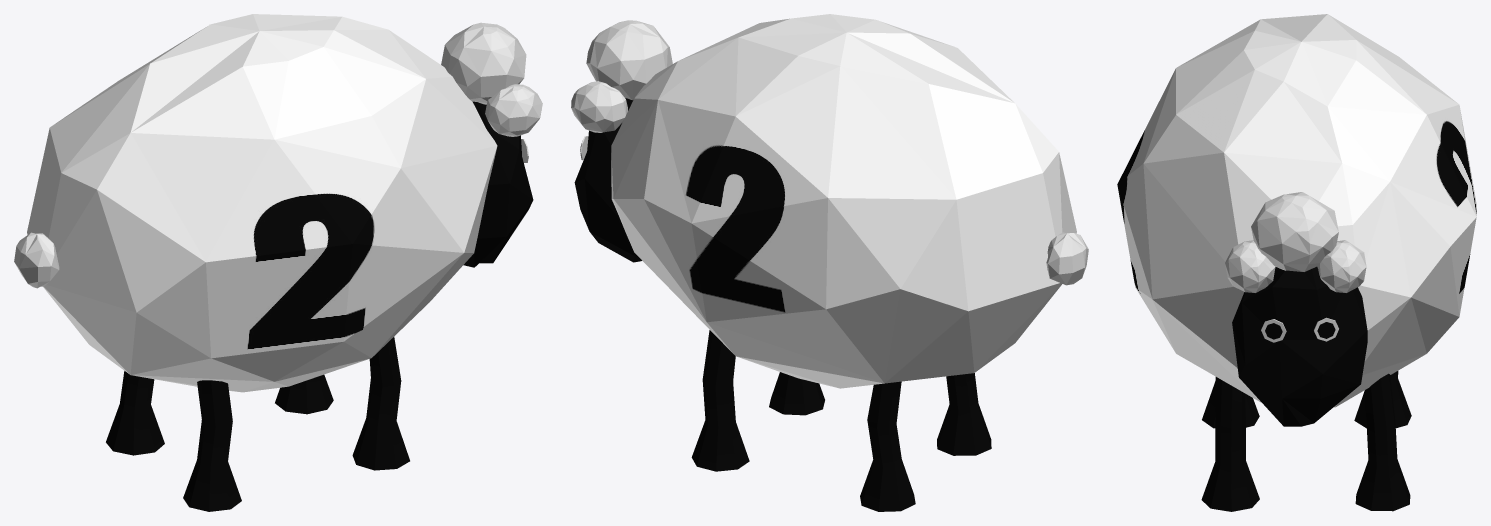
The model's file is sheep2.fbx.
The picture shows the model from 3 angles, left to right: view 1: azimuth 30°, elevation 25°; view 2: azimuth 150°, elevation 25°; view 3: azimuth 270°, elevation 25°; orthographic projection.
Visible parts, largest first — view 1: pSphere1, pSphere7, pSphere4, pCylinder1, pCylinder5, pCylinder7, pSphere8, pSphere3, pCylinder6; view 2: pSphere1, pCylinder6, pSphere7, pCylinder7, pSphere4, pCylinder1, pSphere9, pSphere3, pCylinder5; view 3: pSphere1, pSphere4, pSphere7, pCylinder5, pCylinder6, pSphere8, pSphere9, pCylinder7, pCylinder1.
Part boxes in pixels (<box>): pSphere1: <box>27,14,497,392</box>; pSphere7: <box>441,22,526,104</box>; pSphere4: <box>463,101,533,267</box>; pCylinder1: <box>183,380,241,511</box>; pCylinder5: <box>352,337,409,470</box>; pCylinder7: <box>106,371,164,455</box>; pSphere8: <box>485,84,542,136</box>; pSphere3: <box>14,232,59,288</box>; pCylinder6: <box>275,374,333,414</box>; pSphere1: <box>611,14,1076,388</box>; pCylinder6: <box>691,330,749,471</box>; pSphere7: <box>586,20,672,100</box>; pCylinder7: <box>860,381,915,511</box>; pSphere4: <box>574,98,641,262</box>; pCylinder1: <box>937,373,991,455</box>; pSphere9: <box>571,81,627,132</box>; pSphere3: <box>1046,232,1088,285</box>; pCylinder5: <box>769,372,824,415</box>; pSphere1: <box>1117,14,1476,407</box>; pSphere4: <box>1232,266,1367,426</box>; pSphere7: <box>1251,192,1338,271</box>; pCylinder5: <box>1201,378,1259,511</box>; pCylinder6: <box>1355,373,1410,511</box>; pSphere8: <box>1225,240,1275,292</box>; pSphere9: <box>1317,240,1366,292</box>; pCylinder7: <box>1354,371,1411,428</box>; pCylinder1: <box>1202,377,1259,428</box>.
Bounding box in the file's own units: 3.08 × 2.46 × 1.93.
3 materials, 1 textured.
